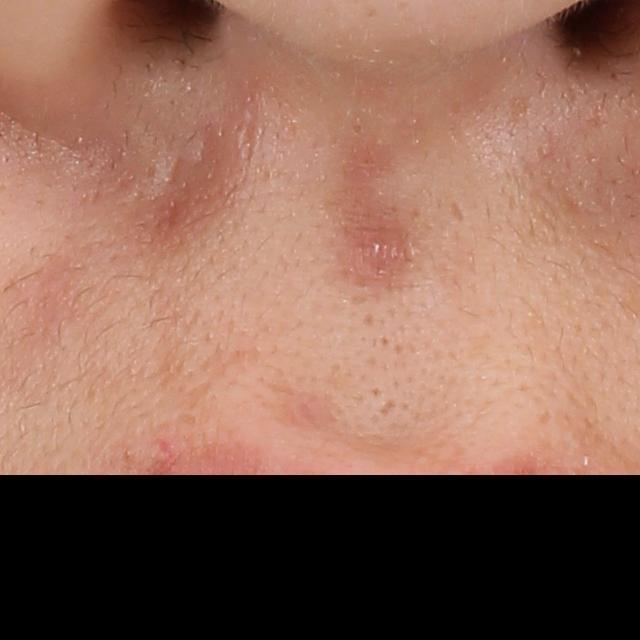atrophic_scar: (150, 133, 226, 232), (449, 194, 466, 225)
papule: (351, 225, 411, 269)
